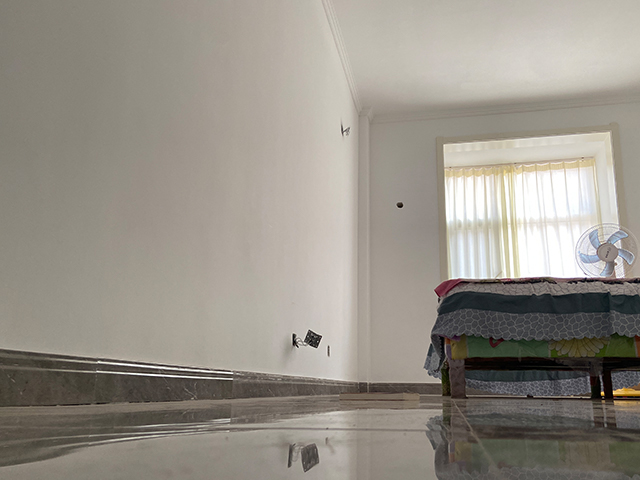bed: (423, 276, 640, 402)
